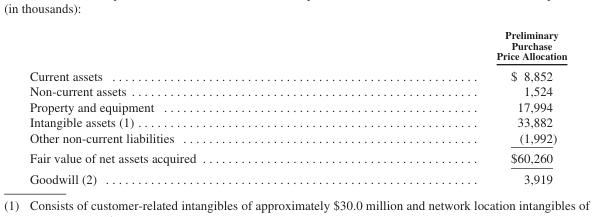table: (28, 28, 566, 185)
table column: (28, 28, 345, 185), (345, 28, 566, 185)
table column header: (28, 28, 566, 64)
table row: (28, 28, 566, 64), (28, 147, 566, 168), (28, 64, 566, 83), (28, 129, 566, 147), (28, 168, 566, 185), (28, 98, 566, 114), (28, 83, 566, 98), (28, 114, 566, 129)
